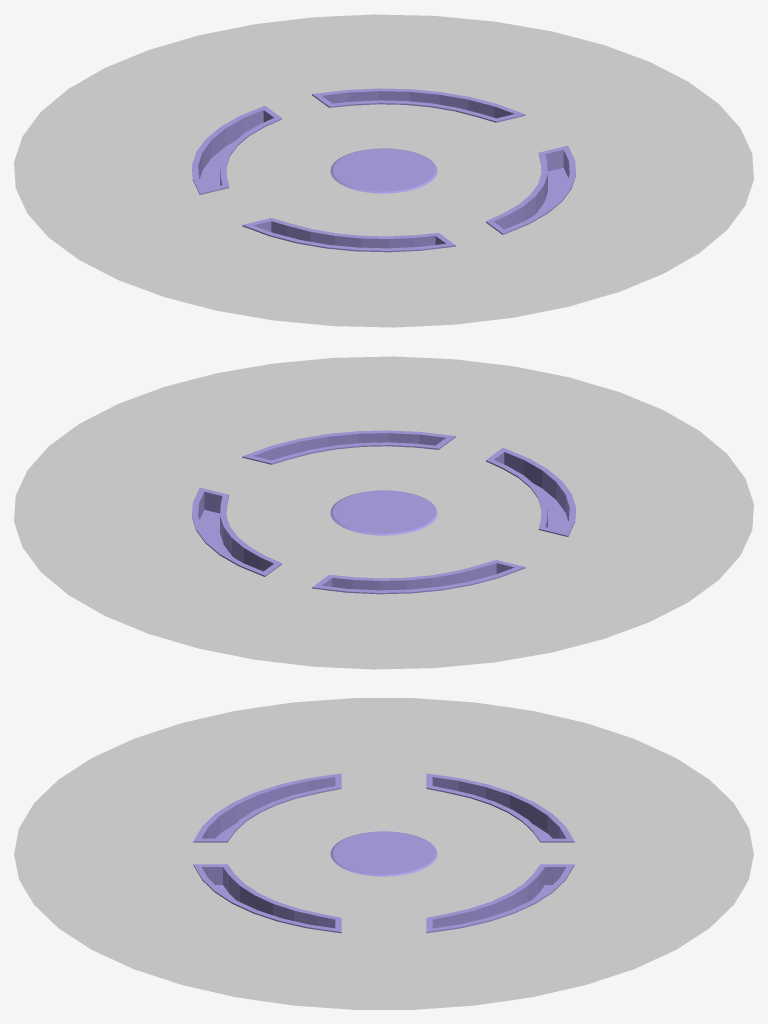
The model's file is FR Floor.fbx.
The picture shows the model from 3 angles, top to bottom: view 1: azimuth 30°, elevation 25°; view 2: azimuth 150°, elevation 25°; view 3: azimuth 270°, elevation 25°; orthographic projection.
Visible parts, largest first — view 1: L1 Floor; view 2: L1 Floor; view 3: L1 Floor.
Boxes of the visible parts, x1,y1,x2,y2 form: L1 Floor: (14,14,753,327); L1 Floor: (14,356,753,669); L1 Floor: (14,698,753,1009).
Size of the model in its own units: 5659 by 153 by 5679.
